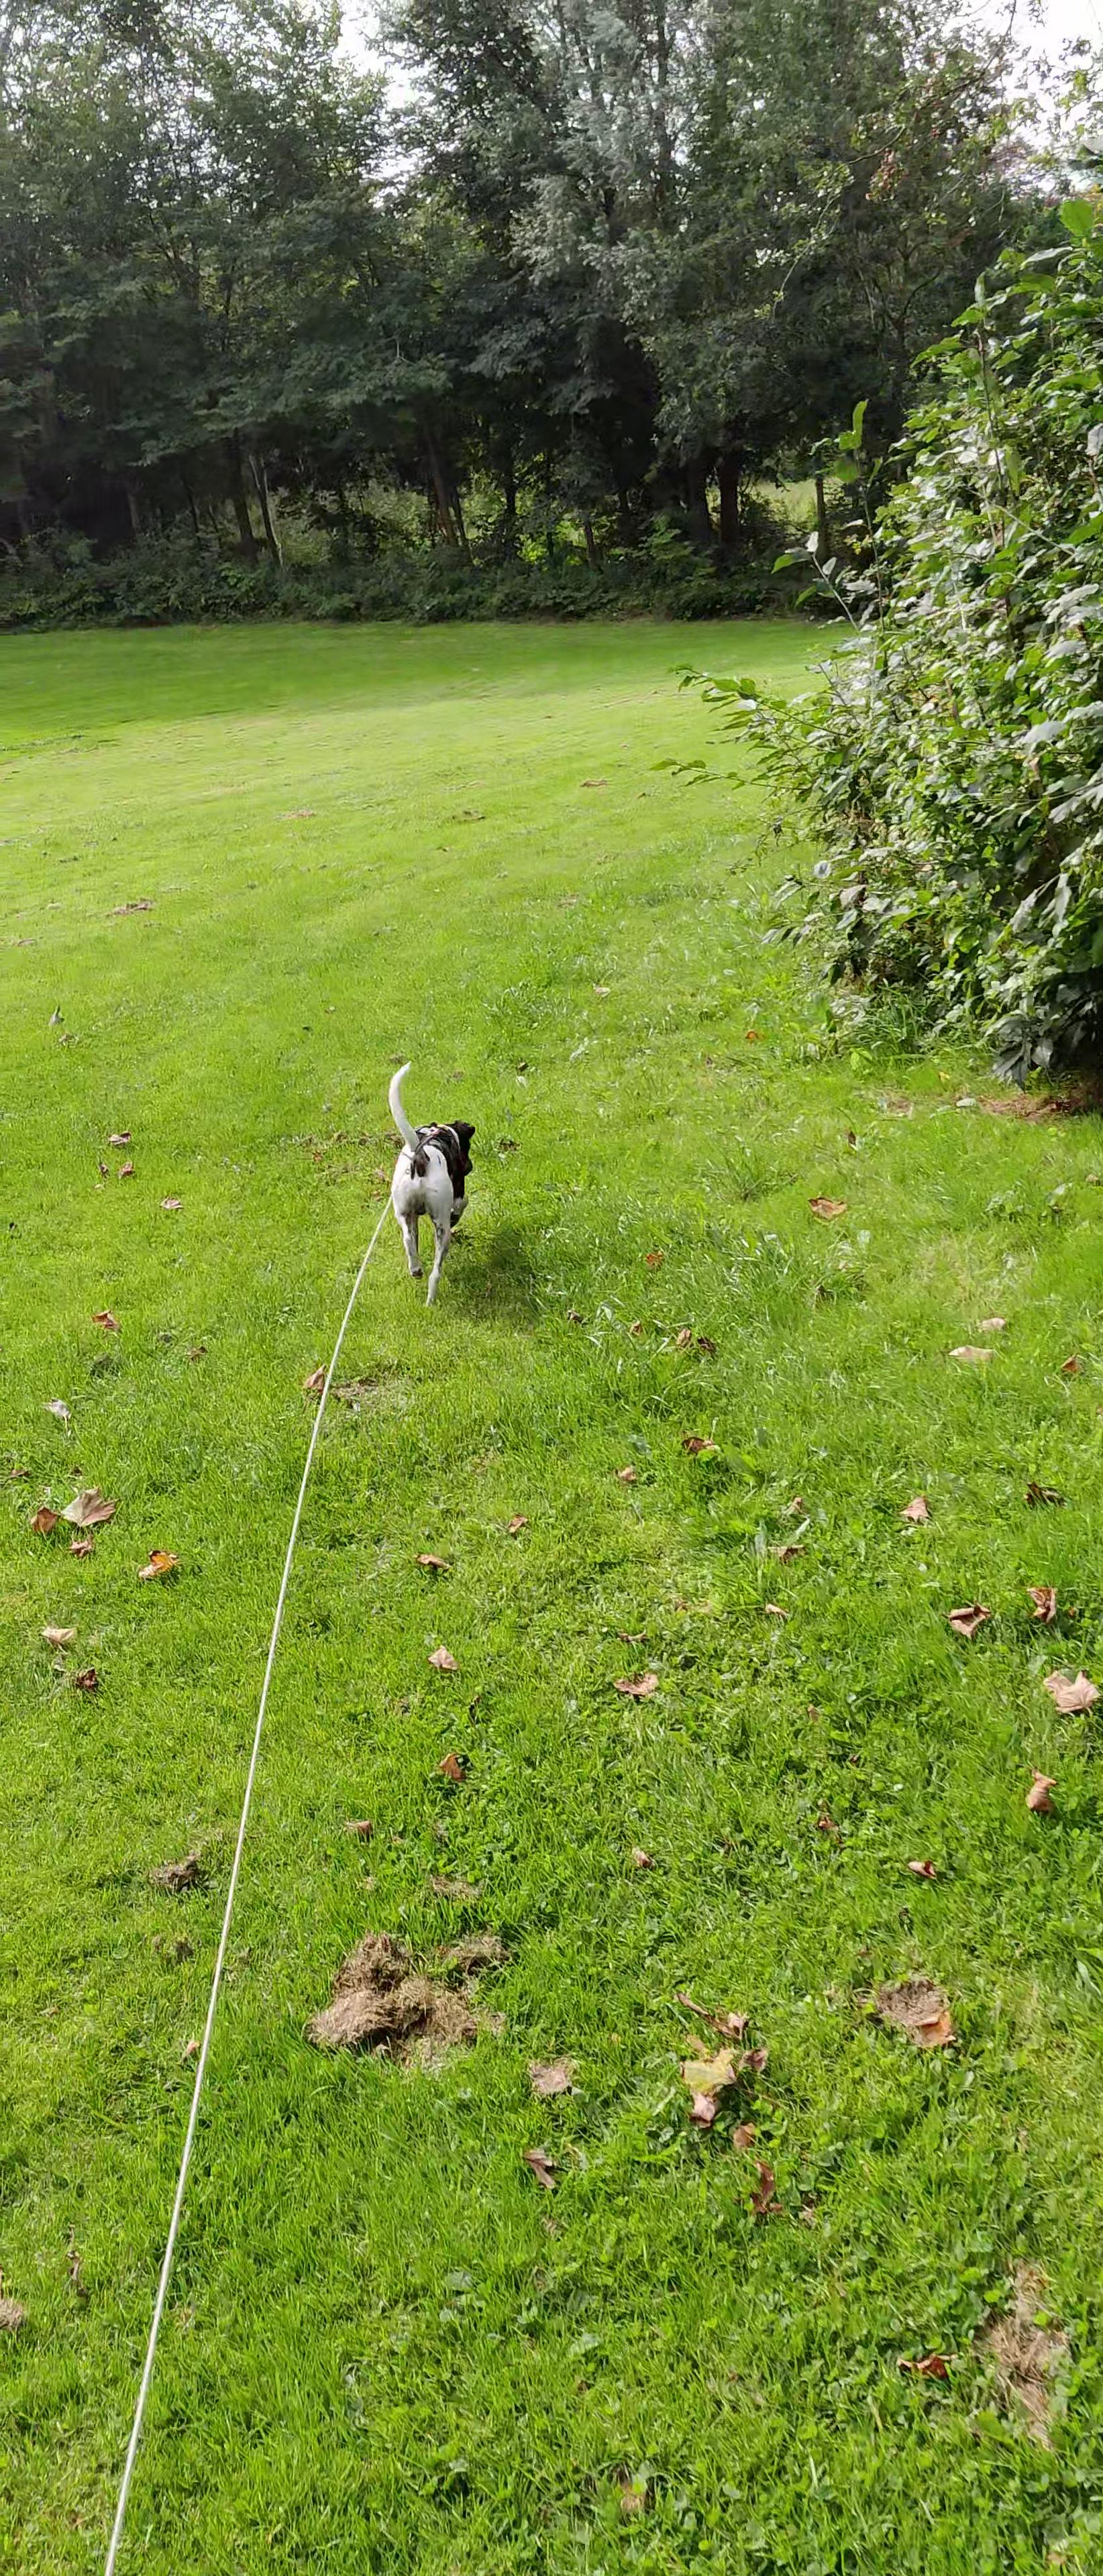Dog: (360, 1053, 493, 1306)
